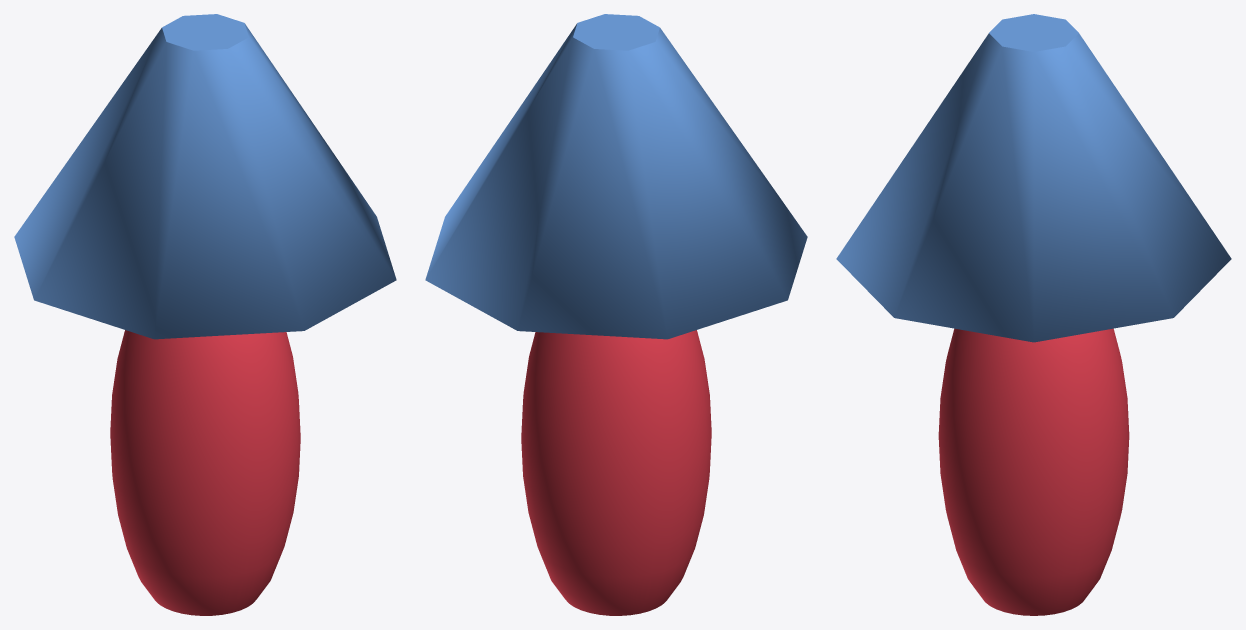
Rendered from Lamp_B.fbx.
The picture shows the model from 3 angles, left to right: view 1: azimuth 30°, elevation 25°; view 2: azimuth 150°, elevation 25°; view 3: azimuth 270°, elevation 25°; orthographic projection.
Visible parts, largest first — view 1: Lamp_B; view 2: Lamp_B; view 3: Lamp_B.
Part boxes in pixels (x1,y1,x2,y2): Lamp_B: (14,14,396,615); Lamp_B: (425,14,807,615); Lamp_B: (836,14,1231,615).
Size of the model in its own units: 0.6568 by 0.6568 by 1.03.
